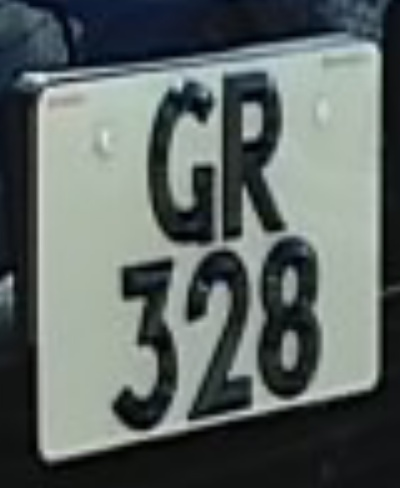2: (190, 245, 259, 427)
3: (122, 244, 202, 454)
8: (250, 234, 319, 411)
G: (138, 68, 225, 256)
R: (214, 56, 297, 247)
